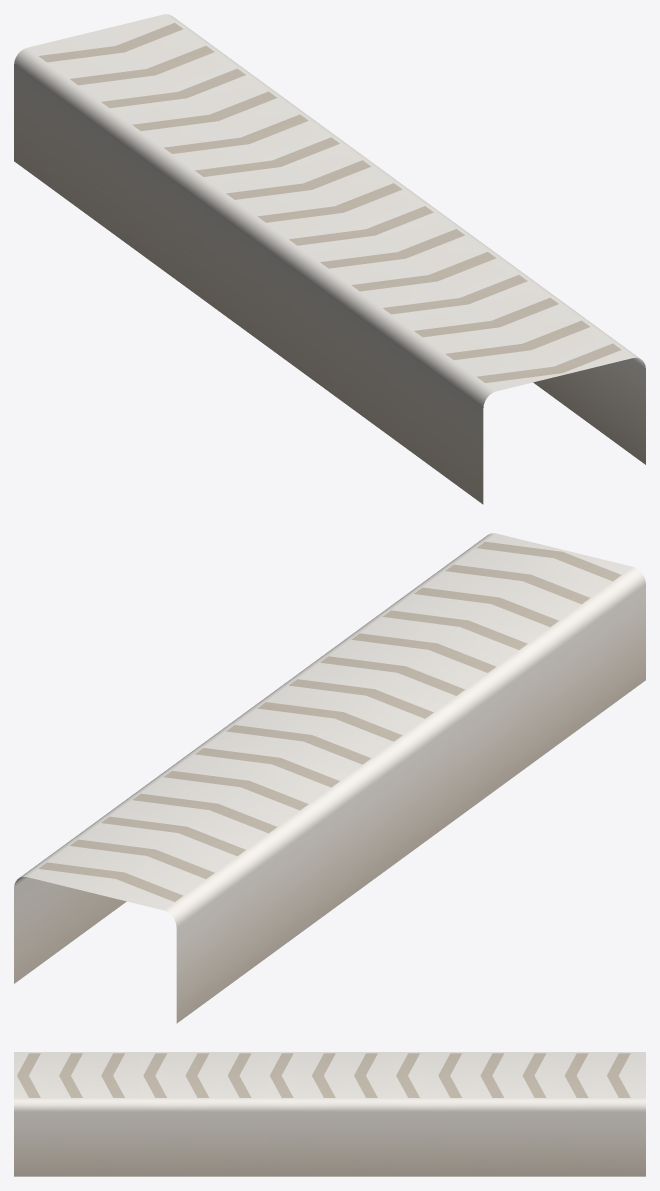
File: Hypercasual_Road.fbx
3 renders of one model, top to bottom at view 1: azimuth 30°, elevation 25°; view 2: azimuth 150°, elevation 25°; view 3: azimuth 270°, elevation 25°, orthographic. The views are drawn at different scales.
Visible parts, largest first — view 1: Plane; view 2: Plane; view 3: Plane.
Part boxes in pixels (x1=…): Plane: x1=14, y1=14, x2=645, y2=504; Plane: x1=14, y1=533, x2=645, y2=1023; Plane: x1=14, y1=1052, x2=645, y2=1176.
Size of the model in its own units: 1500 by 972 by 7500.
